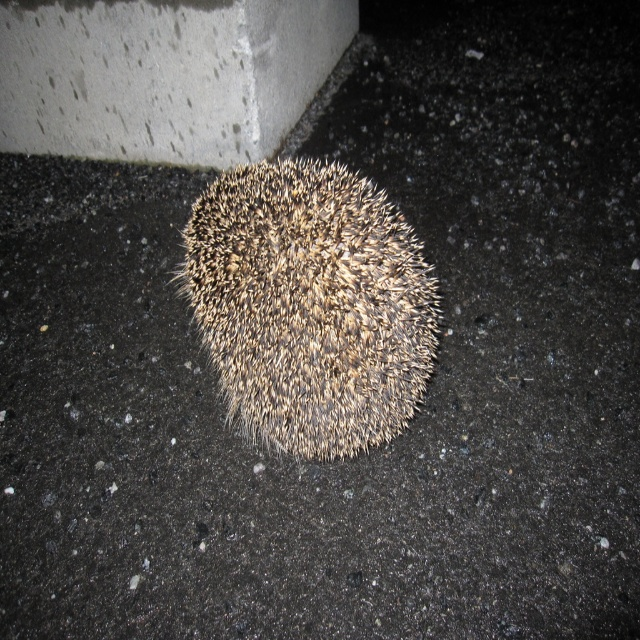Hedgehog: (164, 154, 446, 465)
